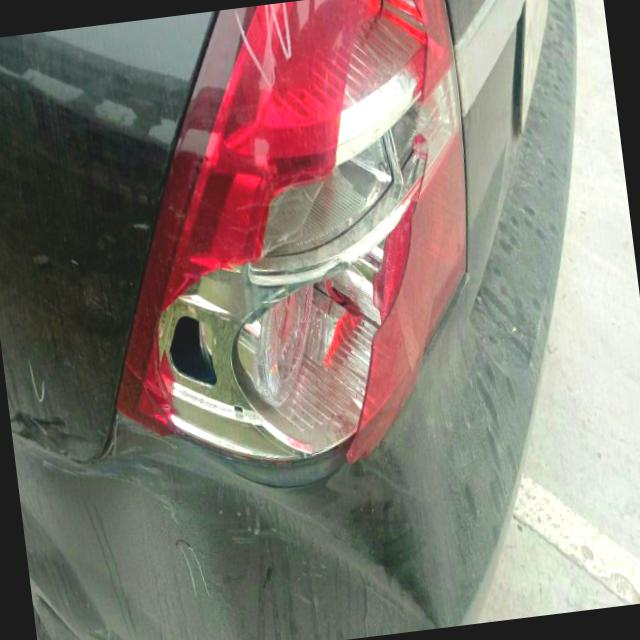Dechirure: (8, 388, 118, 467)
Phare abime: (113, 19, 507, 471)
